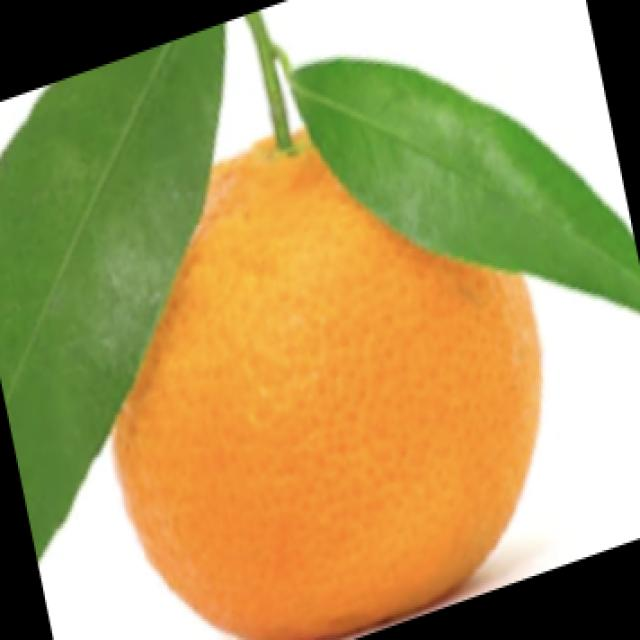matang: (118, 124, 541, 640)
